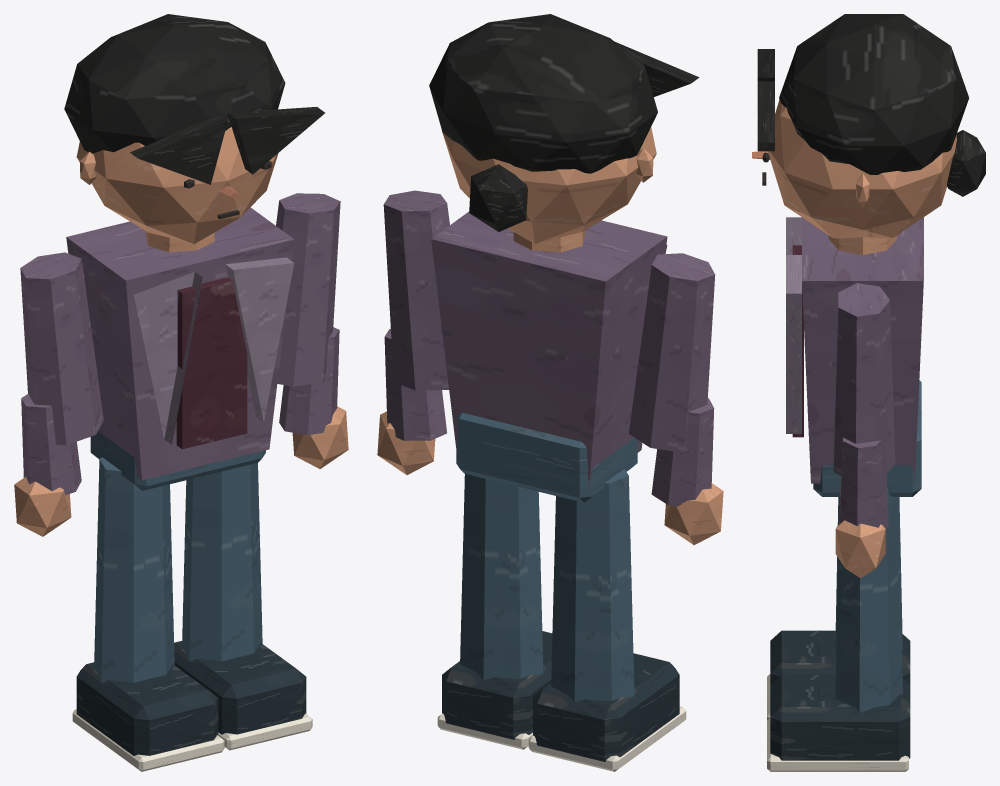
The model's file is person_01.glb.
3 renders of one model, left to right at view 1: azimuth 30°, elevation 25°; view 2: azimuth 150°, elevation 25°; view 3: azimuth 270°, elevation 25°, orthographic. The views are drawn at different scales.
Visible parts, largest first — view 1: GEO_Torso, GEO_Hair_Cap, GEO_PantsLeg_L, GEO_PantsLeg_R, GEO_UpperArm_L, GEO_Head, GEO_Inner_Shirt, GEO_UpperArm_R, GEO_Shoe_L, GEO_Shoe_R, GEO_Jacket_Lapel_R, GEO_Jacket_Lapel_L (+10 smaller); view 2: GEO_Torso, GEO_Hair_Cap, GEO_PantsLeg_L, GEO_PantsLeg_R, GEO_UpperArm_L, GEO_UpperArm_R, GEO_Waist, GEO_Shoe_L, GEO_Head, GEO_Shoe_R, GEO_Forearm_L, GEO_Forearm_R (+7 smaller); view 3: GEO_Hair_Cap, GEO_Torso, GEO_Head, GEO_Shoe_R, GEO_PantsLeg_R, GEO_UpperArm_R, GEO_Forearm_R, GEO_Shoe_L, GEO_Jacket_Lapel_R, GEO_Hand_R, GEO_Waist, GEO_Sole_R (+7 smaller).
Boxes of the visible parts, x1,y1,x2,y2 form: GEO_Torso: (66,207,294,480); GEO_Hair_Cap: (64,14,285,153); GEO_PantsLeg_L: (94,457,174,683); GEO_PantsLeg_R: (182,463,262,661); GEO_UpperArm_L: (20,252,103,445); GEO_Head: (76,127,278,243); GEO_Inner_Shirt: (176,277,247,449); GEO_UpperArm_R: (276,193,340,386); GEO_Shoe_L: (76,662,218,755); GEO_Shoe_R: (174,641,306,734); GEO_Jacket_Lapel_R: (225,257,294,422); GEO_Jacket_Lapel_L: (134,272,202,444); GEO_Torso: (431,211,667,487); GEO_Hair_Cap: (429,14,657,173); GEO_PantsLeg_L: (551,469,634,701); GEO_PantsLeg_R: (460,474,543,679); GEO_UpperArm_L: (629,253,715,452); GEO_UpperArm_R: (383,190,449,390); GEO_Waist: (456,412,637,502); GEO_Shoe_L: (533,653,679,761); GEO_Head: (442,127,656,243); GEO_Shoe_R: (442,631,552,739); GEO_Forearm_L: (651,398,714,506); GEO_Forearm_R: (384,328,446,440); GEO_Hair_Cap: (779,14,968,174); GEO_Torso: (802,217,923,483); GEO_Head: (768,99,956,238); GEO_Shoe_R: (770,674,910,760); GEO_PantsLeg_R: (835,488,902,713); GEO_UpperArm_R: (833,283,895,478); GEO_Forearm_R: (839,437,888,528); GEO_Shoe_L: (770,630,910,684); GEO_Jacket_Lapel_R: (786,255,801,433); GEO_Hand_R: (835,520,885,578); GEO_Waist: (813,380,921,496); GEO_Sole_R: (767,718,908,771).
Size of the model in its own units: 0.861 by 1.72 by 0.5179.
Materials: 1 (1 with a texture image).
